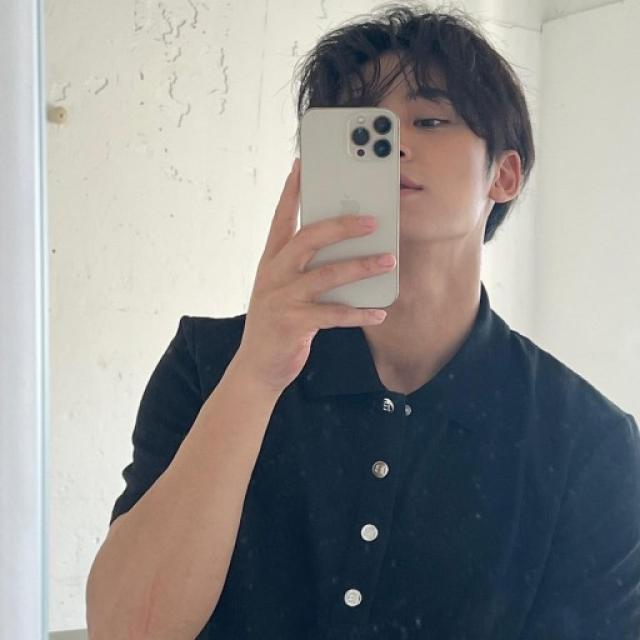lens: (346, 110, 394, 162)
phone: (302, 107, 402, 308)
